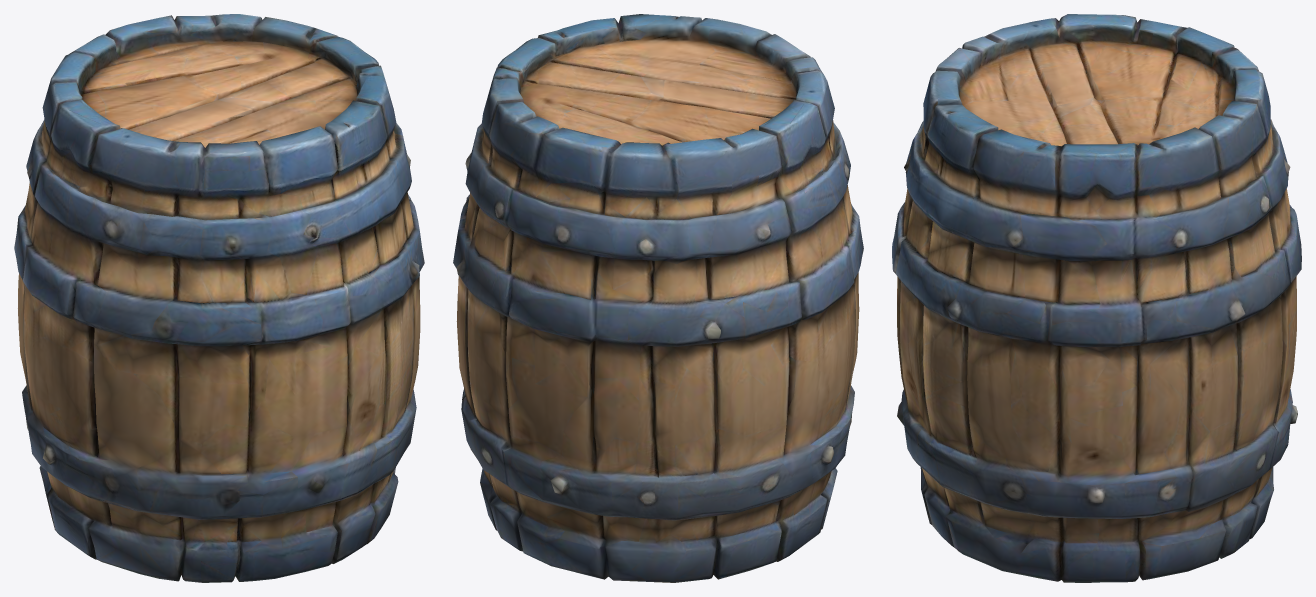
File: barrel.glb
3 renders of one model, left to right at view 1: azimuth 30°, elevation 25°; view 2: azimuth 150°, elevation 25°; view 3: azimuth 270°, elevation 25°, orthographic.
Parts seen in each view (by area): view 1: model; view 2: model; view 3: model.
Part boxes in pixels (left/top/right/bottom): model: left=14, top=14, right=424, bottom=582; model: left=453, top=14, right=863, bottom=582; model: left=892, top=14, right=1301, bottom=582.
Bounding box in the file's own units: 1.72 × 2 × 1.72.
1 material, 1 textured.
